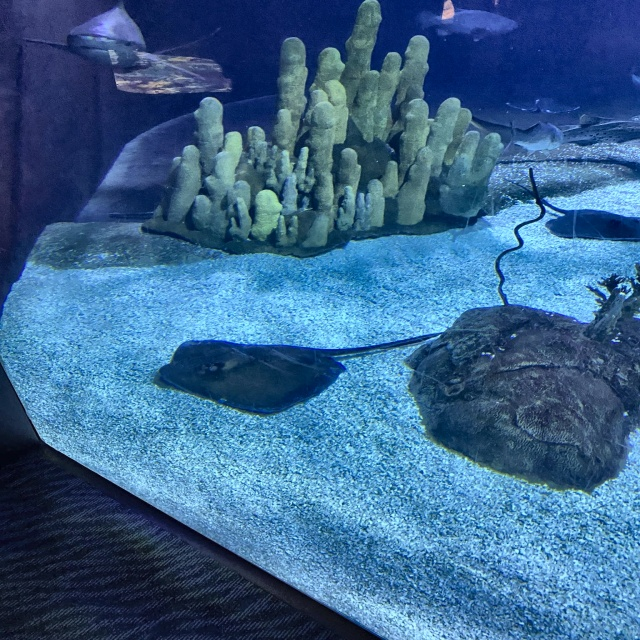fish: (416, 8, 519, 39)
shark: (28, 2, 186, 68)
stingray: (155, 339, 345, 414), (543, 208, 639, 241)
